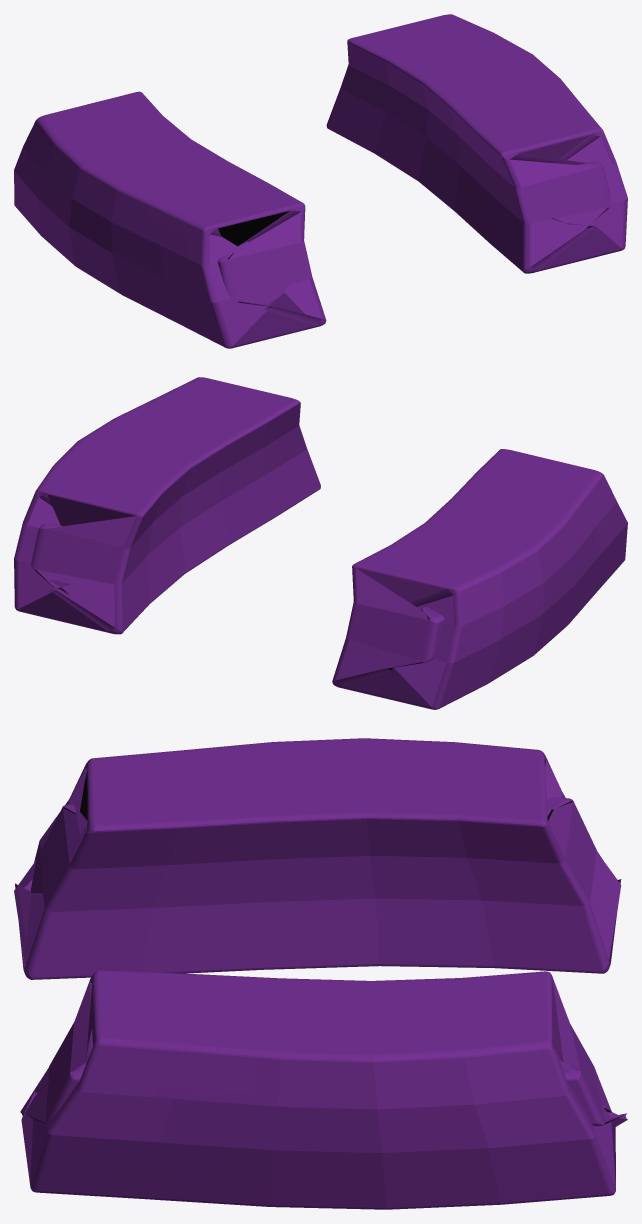
File: Heavenly Fire_Crawler housing1.fbx
3 views of the same model, one above another, from view 1: azimuth 30°, elevation 25°; view 2: azimuth 150°, elevation 25°; view 3: azimuth 270°, elevation 25° (orthographic). The views are drawn at different scales.
Parts seen in each view (by area): view 1: Heavenly Fire_Crawler housing1_Baked; view 2: Heavenly Fire_Crawler housing1_Baked; view 3: Heavenly Fire_Crawler housing1_Baked.
Part boxes in pixels (box(x1,y1,x2,y2)): Heavenly Fire_Crawler housing1_Baked: box(14, 14, 627, 348); Heavenly Fire_Crawler housing1_Baked: box(14, 377, 627, 709); Heavenly Fire_Crawler housing1_Baked: box(14, 738, 627, 1209).
Bounding box in the file's own units: 350 × 74.99 × 271.
Materials: 1 (1 with a texture image).
